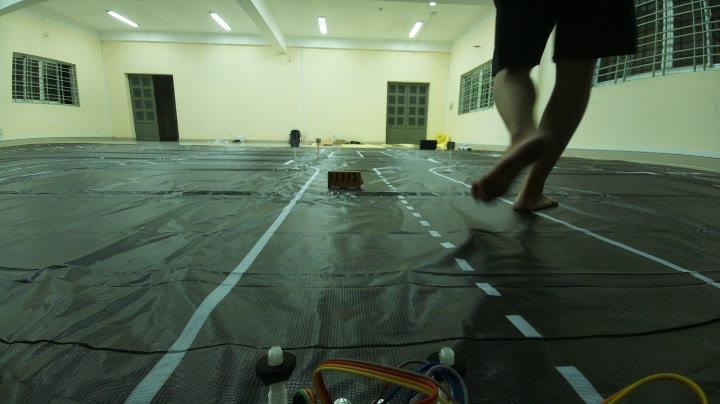roadblock: (324, 166, 367, 198)
